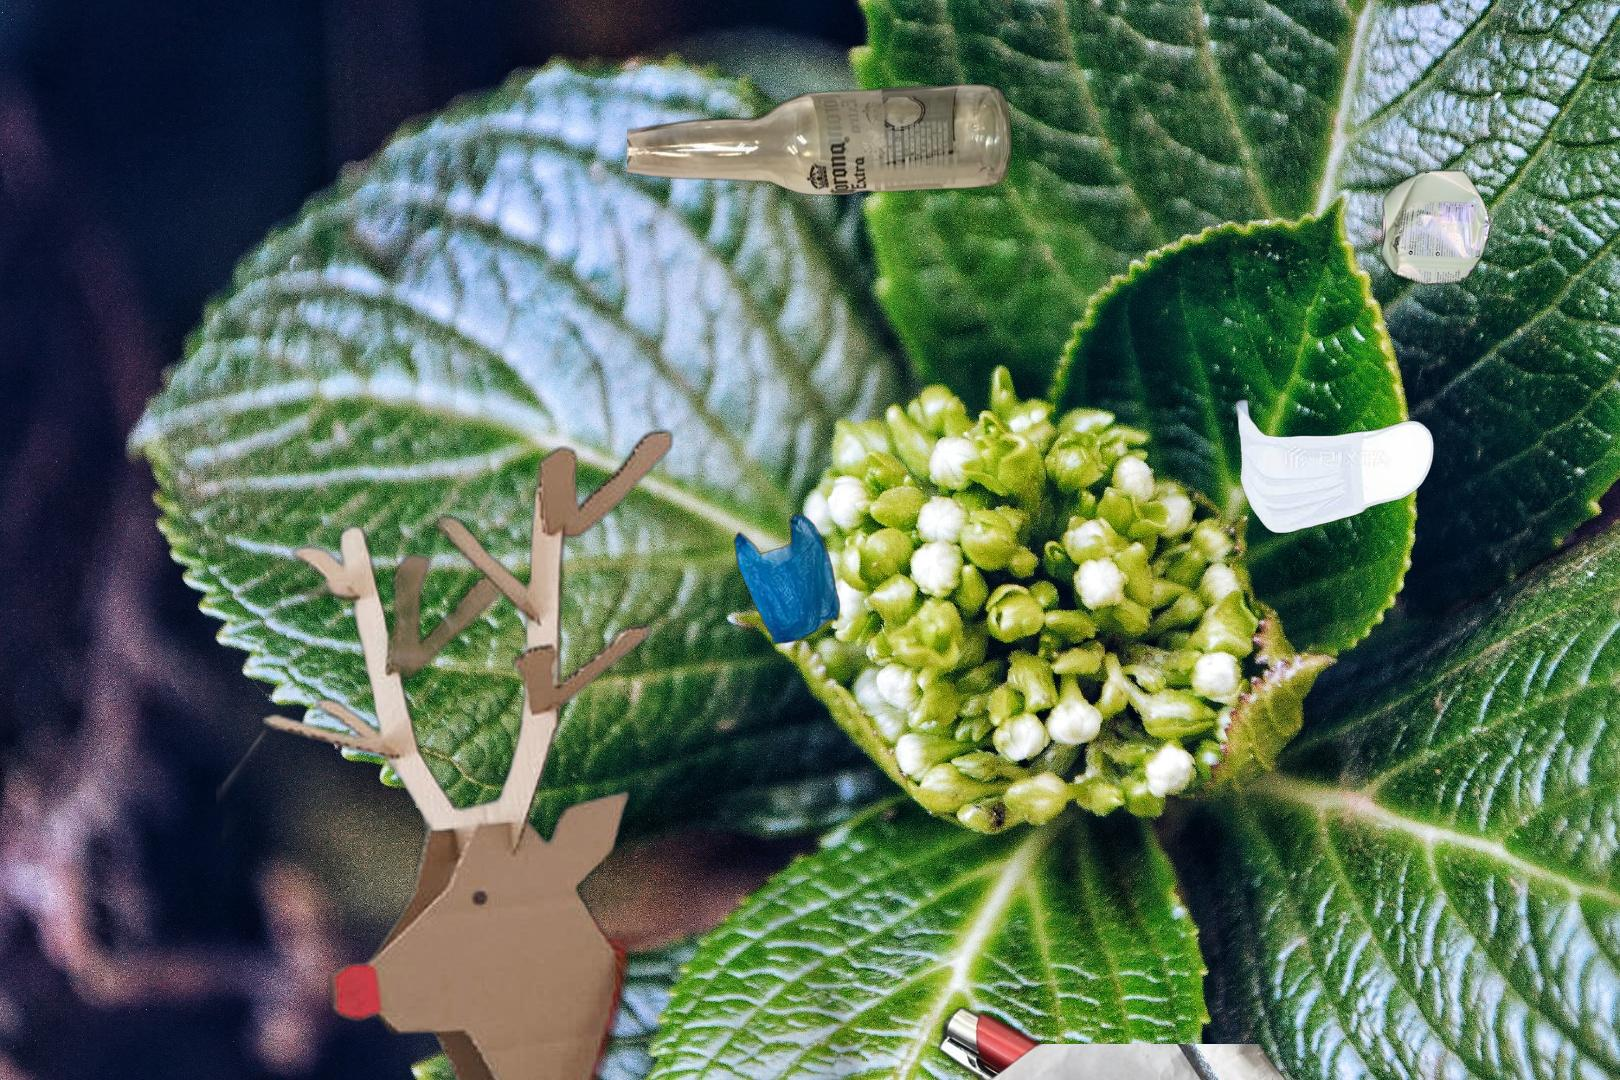glass: (627, 80, 1016, 198)
metal-cans: (1377, 164, 1495, 290)
paper: (982, 1044, 1442, 1080)
penholder: (838, 1000, 1540, 1080)
plastic-bag: (733, 512, 843, 646)
trash: (1234, 397, 1437, 536)
trashbox-cardboard: (216, 422, 896, 1080)
